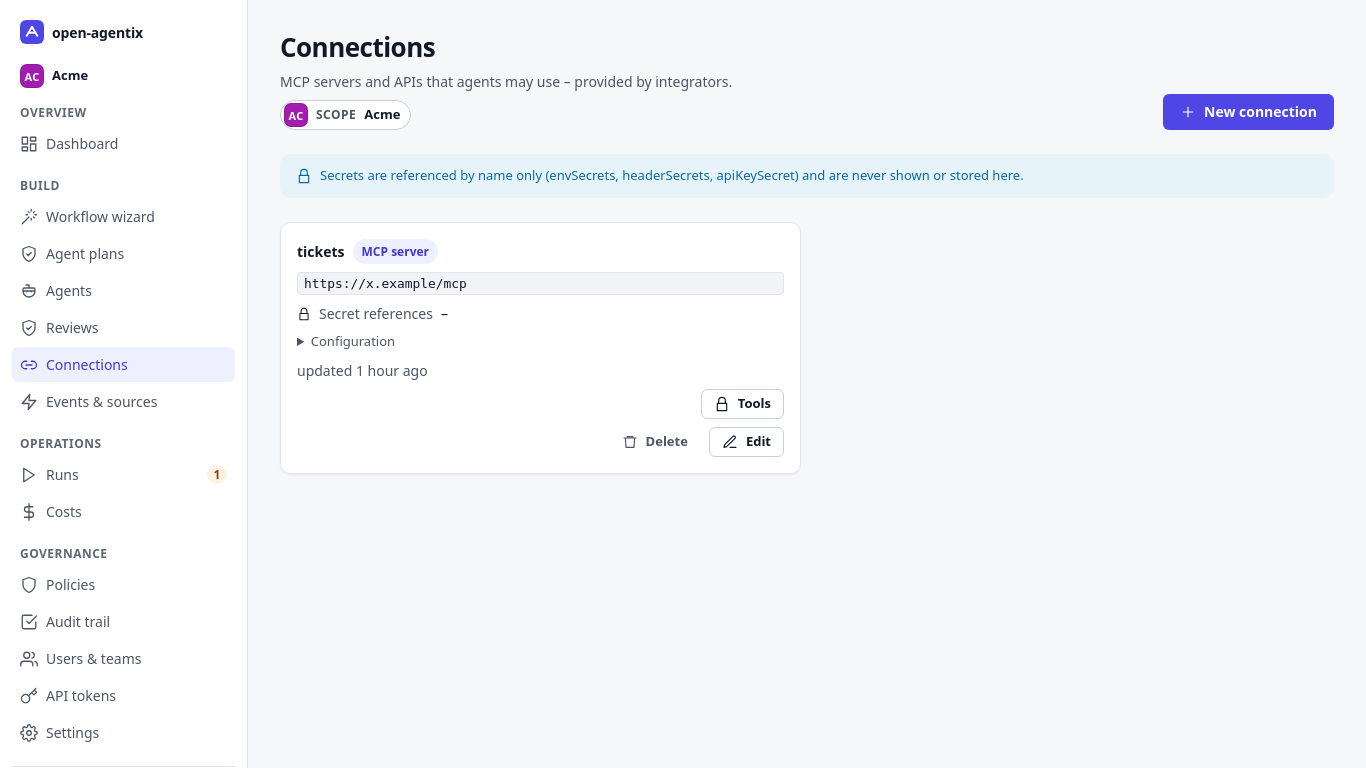
Scenario: Tools of an MCP connection › does not offer to approve a list that only a run reported, until it was fetched
Click the button "Tools" at (742, 404), box [701, 389, 784, 419]
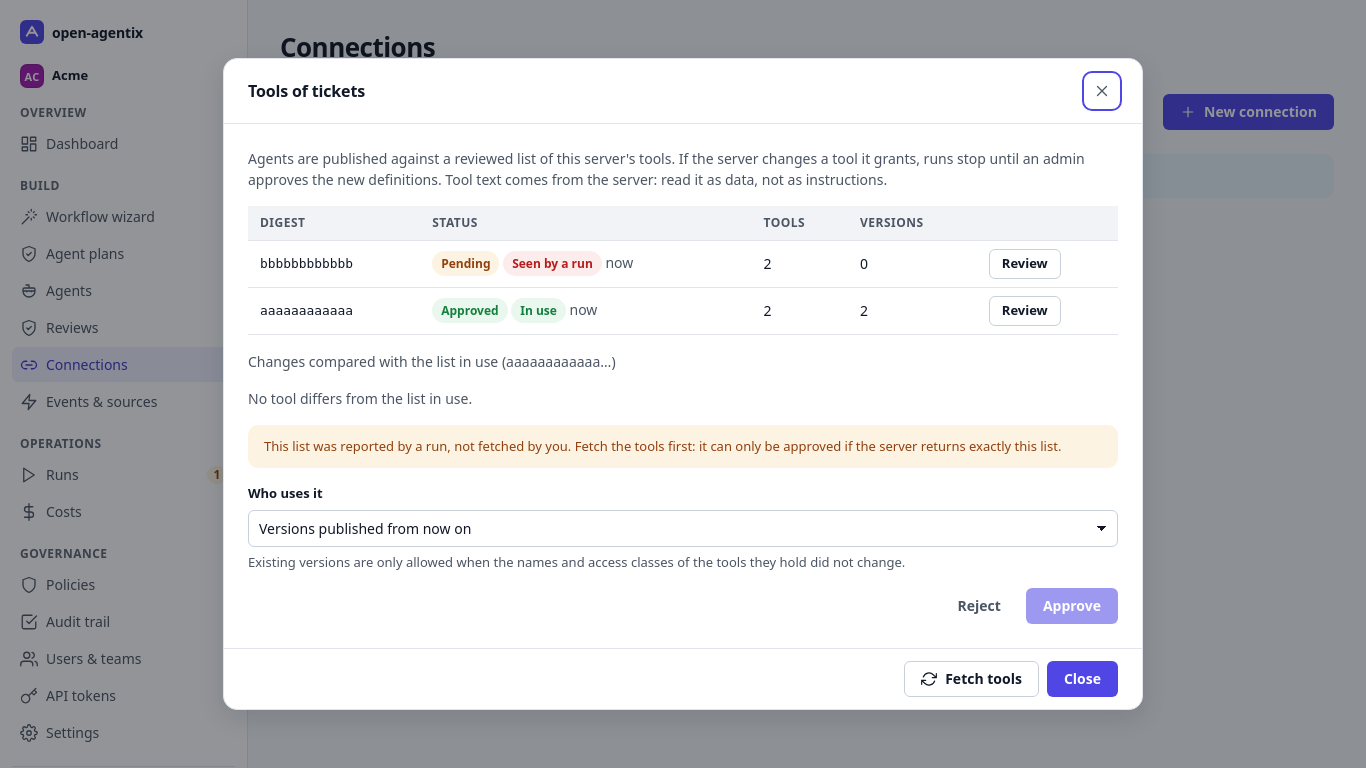
expect the text "Changes compared with the list in use (aaaaaaaaaaaa…)" is shown: met, box [248, 352, 616, 371]
expect the text "reported by a run" is shown: met, box [264, 437, 1061, 455]
expect the button "Approve" is disabled: met, box [1026, 588, 1118, 624]
